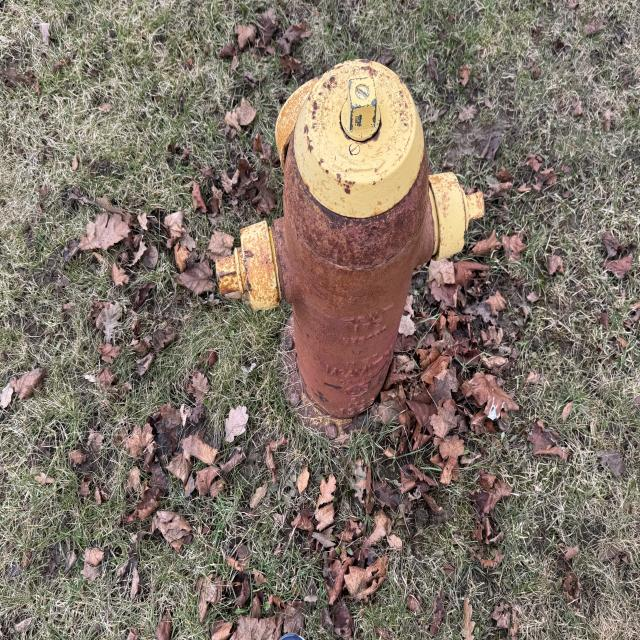Fire hydrant: (213, 60, 487, 457)
